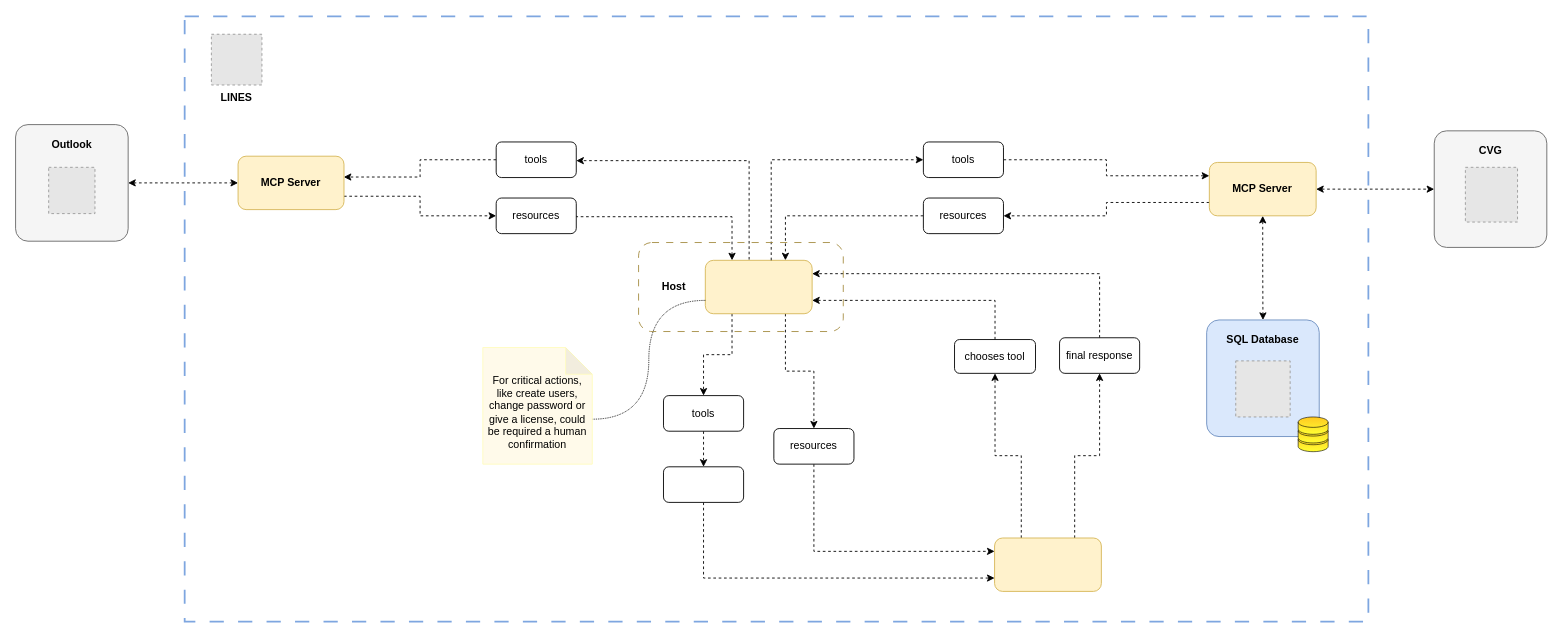
Some shapes in this 1563 by 637 pixel diagram are drawn without their labels. Grey dashed boxes stand in for pictures. The centre of each missing label's shape, as x and y in pixels:
LLM: point (1047, 564)
MCP Client: point (758, 286)
query: point (703, 484)
